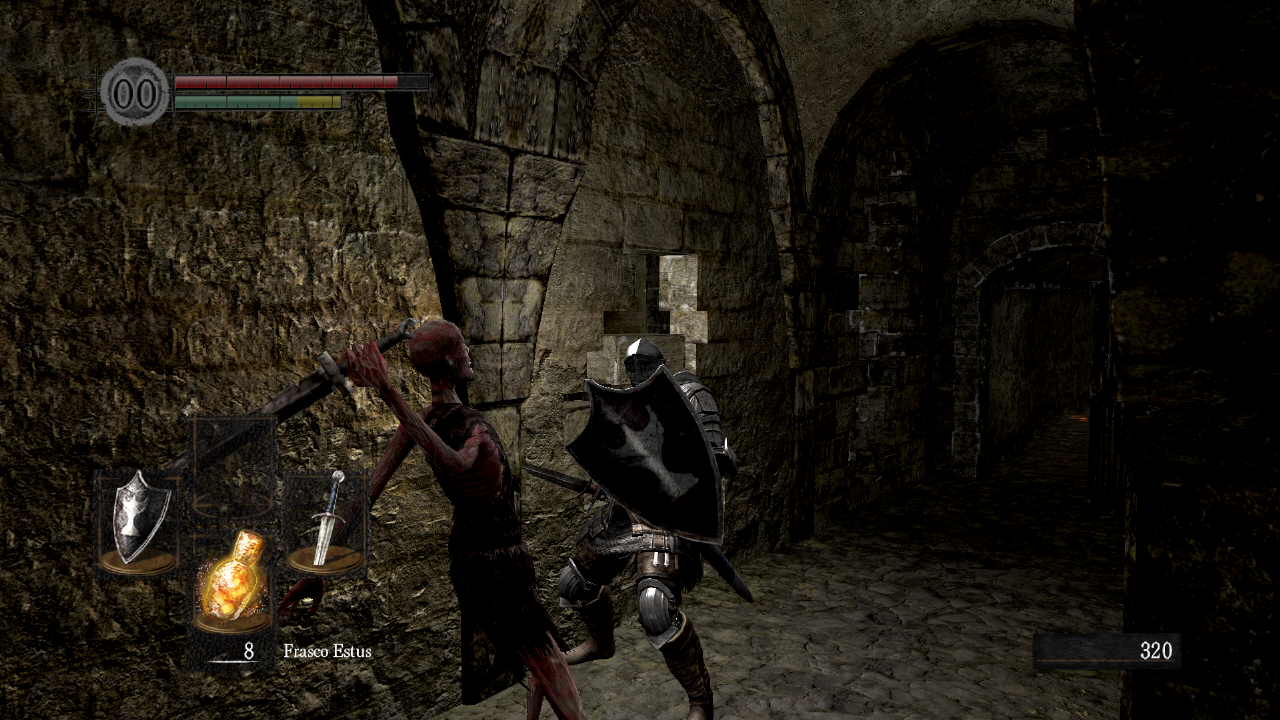hollow: (272, 317, 589, 720)
player: (525, 336, 755, 720)
